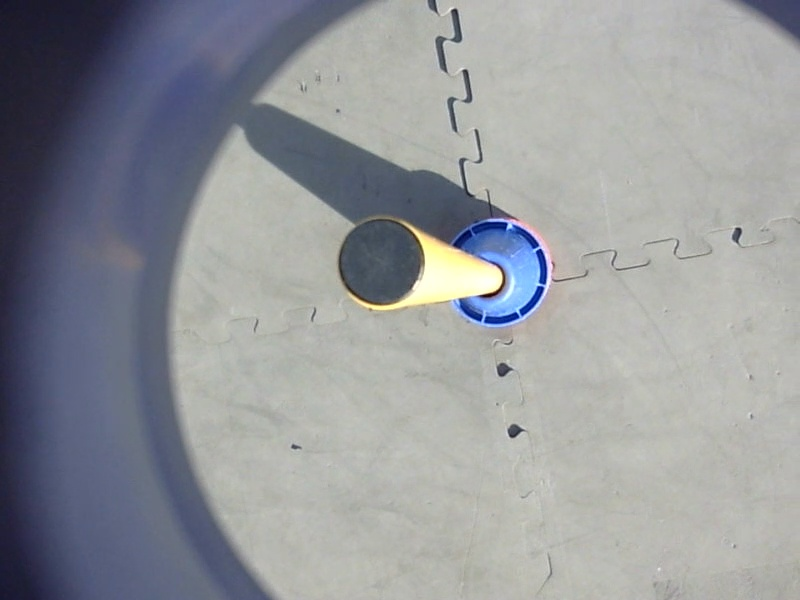tip: (330, 212, 434, 314)
